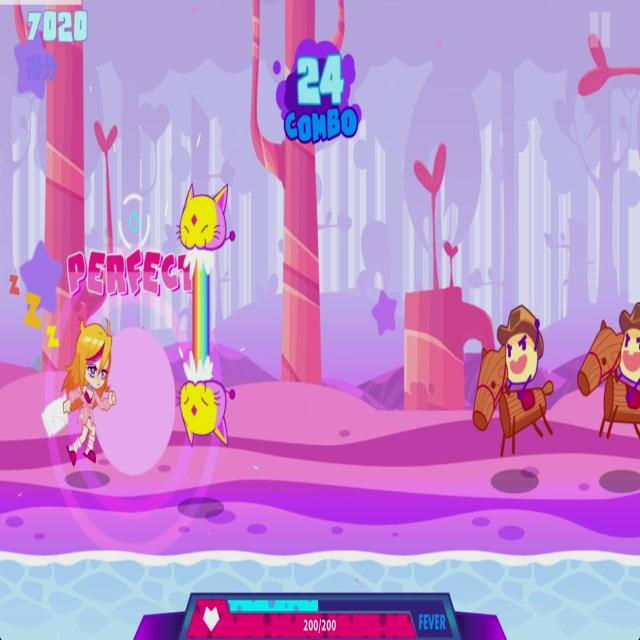qiu: (469, 296, 557, 460), (574, 290, 640, 448)
shuangya: (173, 175, 239, 452)
